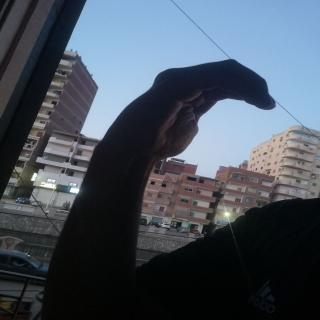HAA: (113, 57, 280, 179)
